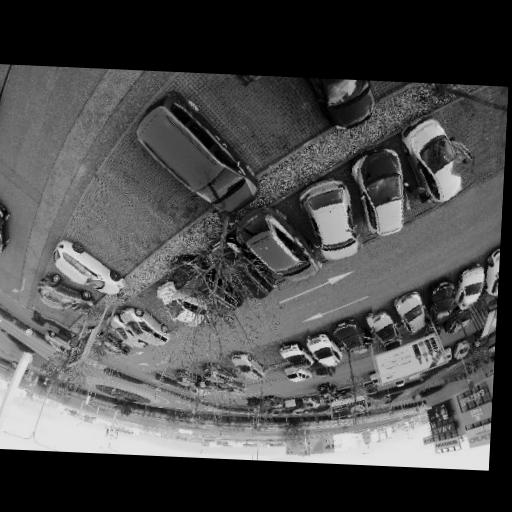busy: (132, 93, 269, 211), (398, 111, 481, 211), (348, 143, 426, 242), (294, 176, 372, 265), (238, 210, 324, 283), (290, 78, 381, 127), (56, 246, 125, 293), (370, 294, 429, 340), (37, 277, 98, 317), (155, 286, 209, 329), (113, 307, 174, 345), (308, 326, 360, 363), (452, 262, 492, 309), (394, 291, 434, 337), (301, 330, 347, 368), (421, 277, 460, 321), (331, 317, 375, 354), (365, 306, 404, 344), (228, 350, 271, 380), (277, 342, 317, 368), (0, 194, 16, 257), (483, 247, 500, 302), (97, 332, 135, 356), (281, 364, 314, 383), (310, 363, 336, 380), (316, 381, 337, 396), (300, 395, 321, 408)
free: (222, 79, 295, 132), (453, 109, 496, 182), (126, 166, 182, 197), (142, 297, 180, 333), (110, 204, 154, 235), (90, 229, 132, 256), (40, 301, 75, 324), (262, 351, 281, 364)
